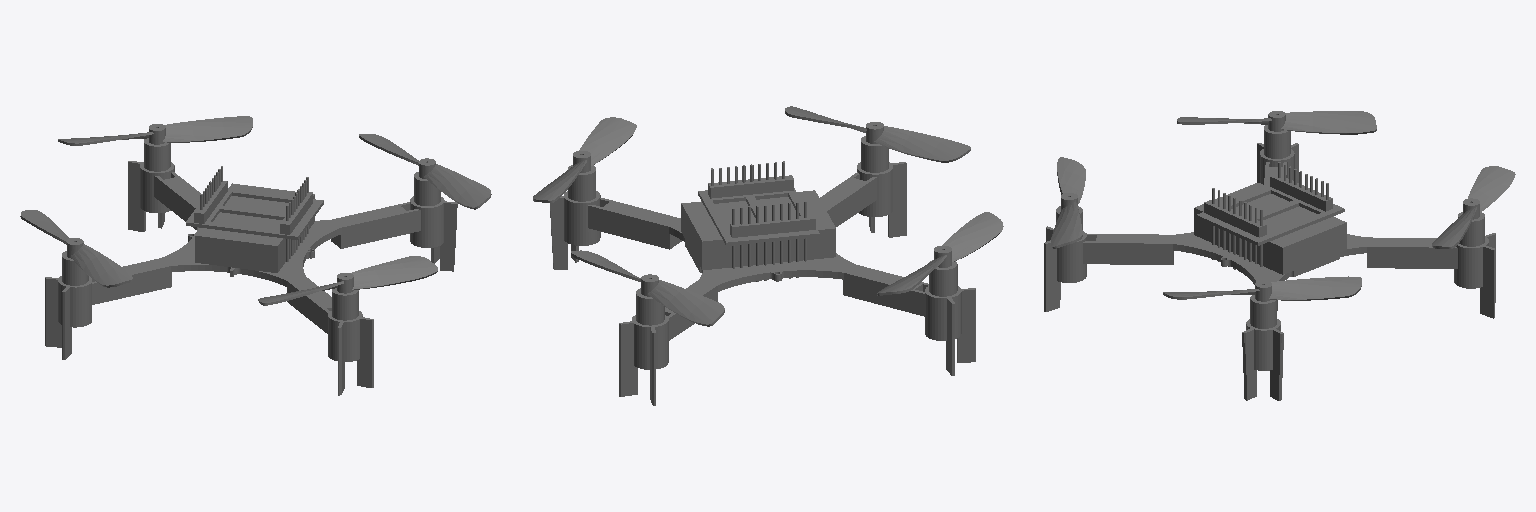
URDF robot description (cf2):
<?xml version="1.0" ?>

<robot name="cf2">

  <properties arm="0.0397" kf="3.16e-10" km="7.94e-12" thrust2weight="2.25" max_speed_kmh="30" gnd_eff_coeff="11.36859" prop_radius="2.31348e-2" drag_coeff_xy="9.1785e-7" drag_coeff_z="10.311e-7"/>

  <link name="base_link"> 

    <inertial>
      <origin rpy="0 0 0" xyz="0 0 0"/>
      <mass value="0.027"/>
      <inertia ixx="2.3951e-5" ixy="0.0" ixz="0.0" iyy="2.3951e-5" iyz="0.0" izz="3.2347e-5"/>
    </inertial>

    <!-- links>
      <carlos url="https://arxiv.org/pdf/1608.05786.pdf" />
      <julian url="http://mikehamer.info/assets/papers/Crazyflie%20Modelling.pdf" />
      <mit url="http://groups.csail.mit.edu/robotics-center/public_papers/Landry15.pdf" />
    </links -->

    <visual>
      <origin rpy="0 0 95" xyz="0 0 0"/>
      <geometry>
        <mesh filename="./cf2.dae" scale=" 1 1 1"/>
      </geometry> 
      <material name="grey">
        <color rgba=".5 .5 .5 1"/>
      </material> 
    </visual>

    <collision>
      <origin rpy="0 0 0" xyz="0 0 0"/>
      <geometry>
        <cylinder radius=".06" length=".025"/>
      </geometry>
    </collision>  

  </link>

  <link name="prop0_link">
    <inertial>
      <origin rpy="0 0 0" xyz="0.0397 0 0"/>
      <mass value="0"/>
      <inertia ixx="0" ixy="0" ixz="0" iyy="0" iyz="0" izz="0"/>
    </inertial>
  </link>
  <joint name="prop0_joint" type="fixed">
    <parent link="base_link"/>
    <child link="prop0_link"/>
  </joint>

  <link name="prop1_link">
    <inertial>
      <origin rpy="0 0 0" xyz="0 0.0397 0"/>
      <mass value="0"/>
      <inertia ixx="0" ixy="0" ixz="0" iyy="0" iyz="0" izz="0"/>
    </inertial>
  </link>
  <joint name="prop1_joint" type="fixed">
    <parent link="base_link"/>
    <child link="prop1_link"/>
  </joint>

  <link name="prop2_link">
    <inertial>
      <origin rpy="0 0 0" xyz="-0.0397 0 0"/>
      <mass value="0"/>
      <inertia ixx="0" ixy="0" ixz="0" iyy="0" iyz="0" izz="0"/>
    </inertial>
  </link>
  <joint name="prop2_joint" type="fixed">
    <parent link="base_link"/>
    <child link="prop2_link"/>
  </joint>

  <link name="prop3_link">
    <inertial>
      <origin rpy="0 0 0" xyz="0 -0.0397 0"/>
      <mass value="0"/>
      <inertia ixx="0" ixy="0" ixz="0" iyy="0" iyz="0" izz="0"/>
    </inertial>
  </link>
  <joint name="prop3_joint" type="fixed">
    <parent link="base_link"/>
    <child link="prop3_link"/>
  </joint>

  <link name="center_of_mass_link">
    <inertial>
      <origin rpy="0 0 0" xyz="0 0 0"/>
      <mass value="0"/>
      <inertia ixx="0" ixy="0" ixz="0" iyy="0" iyz="0" izz="0"/>
    </inertial>
  </link>
  <joint name="center_of_mass_joint" type="fixed">
    <parent link="base_link"/>
    <child link="center_of_mass_link"/>
  </joint>

</robot>

--- Facts derived from the render (not from the file) ---
Views: 3 orthographic renders of the robot side by side, from view 1: azimuth 30°, elevation 25°; view 2: azimuth 150°, elevation 25°; view 3: azimuth 270°, elevation 25°.
Robot: cf2 — 6 links, 5 joints (5 fixed); root link base_link; default pose: all joints at 0.
Visible links, largest first — view 1: base_link; view 2: base_link; view 3: base_link.
Boxes of the visible links, x1,y1,x2,y2 form: base_link: [20, 116, 491, 395]; base_link: [533, 106, 1003, 405]; base_link: [1044, 111, 1515, 400].
Bounding box of the posed robot: 0.1039 × 0.1082 × 0.031 m (x, y, z).
1 mesh visuals loaded from 1 distinct referenced files (1 Collada DAE).
